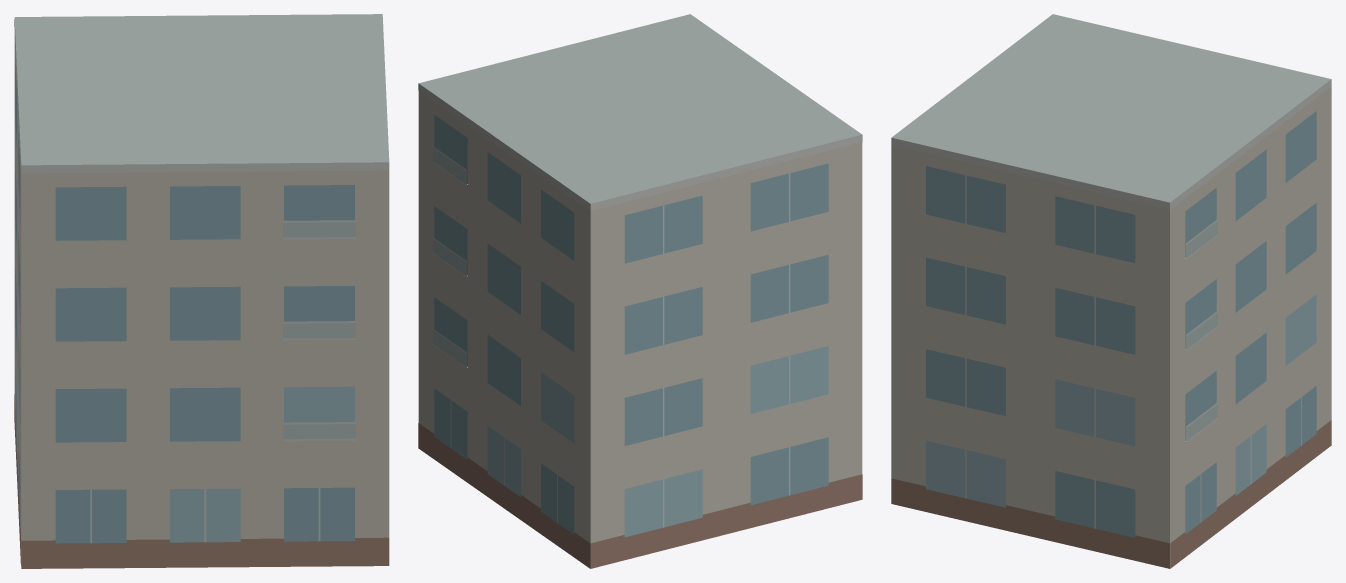
The model's file is residential-c2cf8eb4-2f4a-4700-8577-6b8dd21f4b60.glb.
3 views of the same model, side by side, from view 1: azimuth 30°, elevation 25°; view 2: azimuth 150°, elevation 25°; view 3: azimuth 270°, elevation 25° (orthographic). The views are drawn at different scales.
Visible parts, largest first — view 1: residential-c2cf8eb4-2f4a-4700-8577-6b8dd21f4b60.tmp; view 2: residential-c2cf8eb4-2f4a-4700-8577-6b8dd21f4b60.tmp; view 3: residential-c2cf8eb4-2f4a-4700-8577-6b8dd21f4b60.tmp.
Part boxes in pixels (bbox=[...]): residential-c2cf8eb4-2f4a-4700-8577-6b8dd21f4b60.tmp: bbox=[14, 14, 389, 568]; residential-c2cf8eb4-2f4a-4700-8577-6b8dd21f4b60.tmp: bbox=[418, 14, 862, 568]; residential-c2cf8eb4-2f4a-4700-8577-6b8dd21f4b60.tmp: bbox=[891, 14, 1331, 568].
Size of the model in its own units: 13.49 by 12.2 by 13.3.
